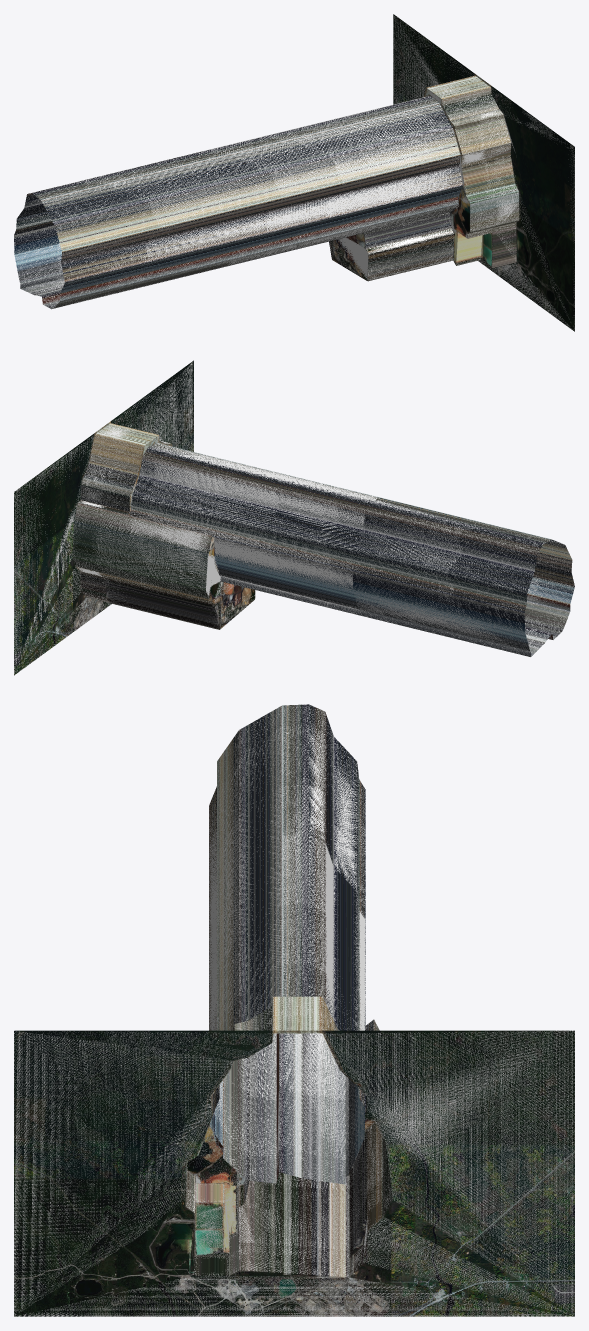
Rendered from elpanoramayanoestadisponible2.glb.
The picture shows the model from 3 angles, top to bottom: view 1: azimuth 30°, elevation 25°; view 2: azimuth 150°, elevation 25°; view 3: azimuth 270°, elevation 25°; orthographic projection. The views are drawn at different scales.
Visible parts, largest first — view 1: Timmins,-Canadá.001, Timmins,-Canadá; view 2: Timmins,-Canadá.001, Timmins,-Canadá; view 3: Timmins,-Canadá.001, Timmins,-Canadá.
Boxes of the visible parts, left/top/right/bottom form: Timmins,-Canadá.001: left=14, top=14, right=574, bottom=331; Timmins,-Canadá: left=14, top=16, right=574, bottom=331; Timmins,-Canadá.001: left=14, top=360, right=574, bottom=675; Timmins,-Canadá: left=14, top=361, right=574, bottom=674; Timmins,-Canadá.001: left=14, top=704, right=574, bottom=1316; Timmins,-Canadá: left=14, top=705, right=574, bottom=1316.
Bounding box in the file's own units: 2.53 × 1 × 1.78.
2 materials, 1 textured.
